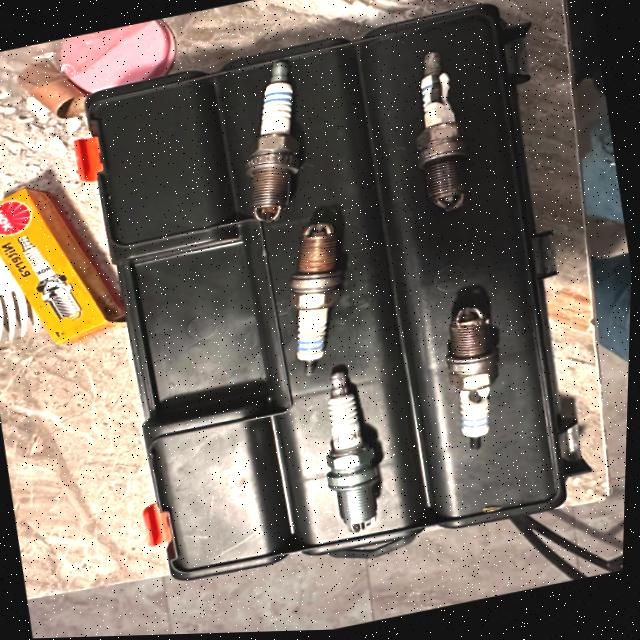damaged_spark-plug: (425, 294, 524, 466), (397, 47, 475, 218)
spark-plug: (260, 219, 371, 382), (220, 58, 324, 227), (311, 365, 400, 537)
